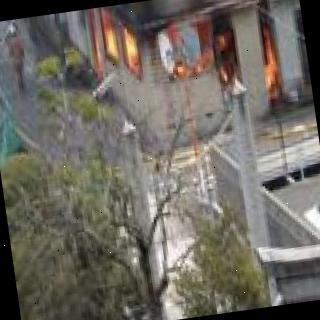fire: (82, 0, 295, 129)
